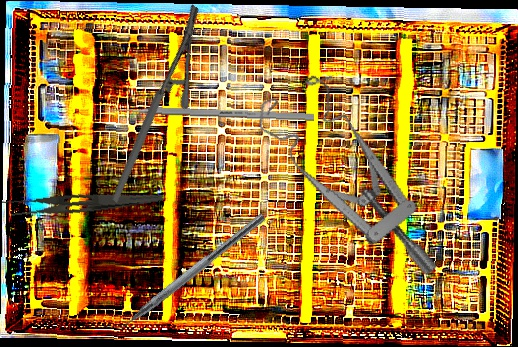Chopper: (100, 203, 267, 343)
Dressing Forceps: (2, 177, 163, 224)
Needle Holder: (58, 3, 251, 204)
Pusher: (94, 105, 315, 121)
Speculum: (249, 56, 440, 310)
